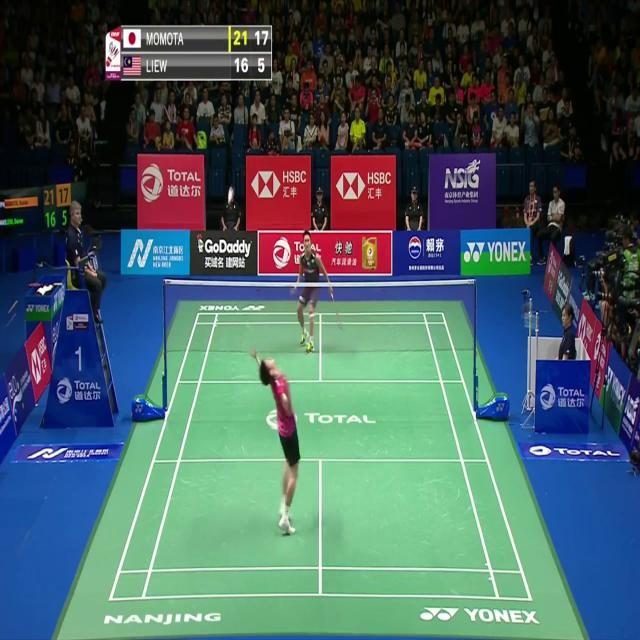Shuttlecock: (226, 191, 233, 202)
